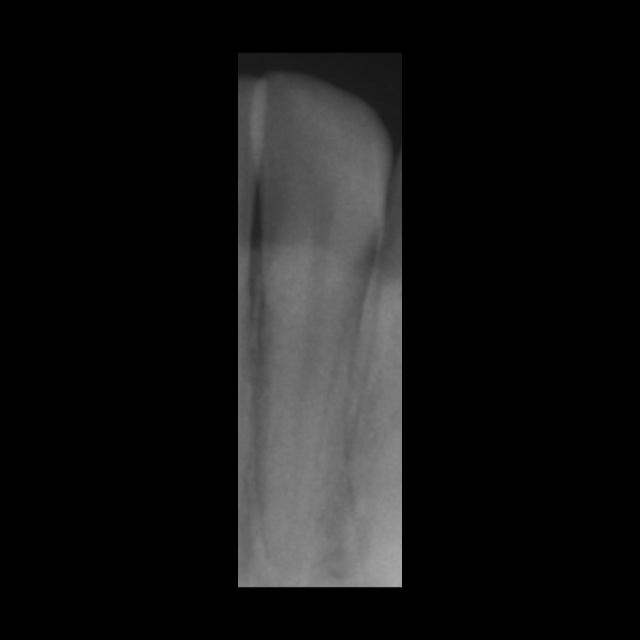tooth: (250, 74, 396, 577)
